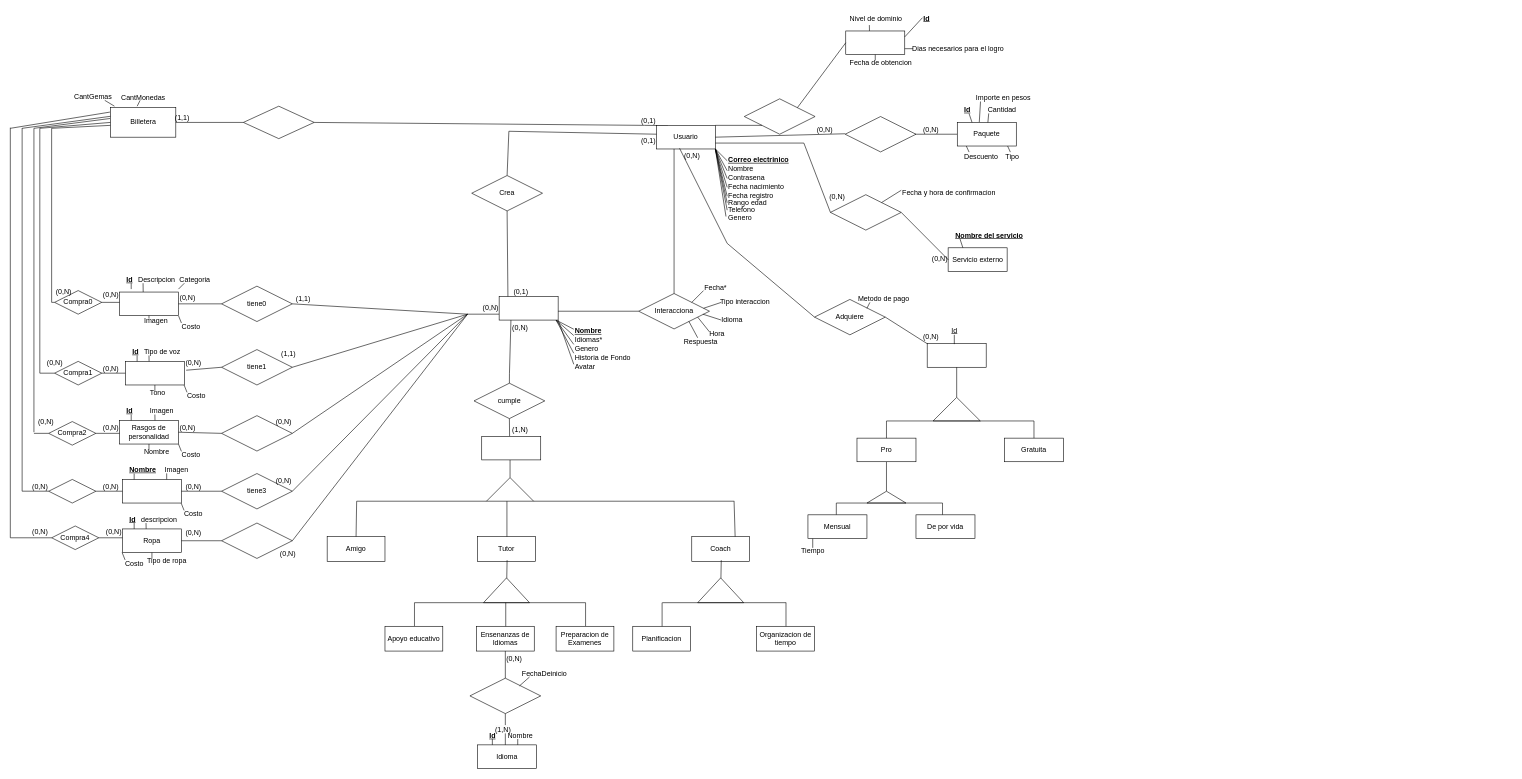
The diagram is 1522 pixels wide and 779 high, and some of its shapes have lost their labels. Here are the shapes that lost their labels. From the top down, the box of each, then its label:
(845, 30, 905, 55): Certificado de logro
(243, 106, 314, 139): posee
(744, 98, 815, 134): Recibe
(845, 116, 916, 152): Compra
(830, 194, 901, 230): Integra
(119, 291, 178, 316): Apariencia
(499, 296, 558, 320): Asistente virtual
(125, 361, 184, 385): Voz
(927, 343, 986, 367): Suscripcion
(221, 415, 292, 451): tiene2
(481, 436, 541, 460): Rol
(48, 479, 96, 503): Compra3
(122, 479, 181, 503): Interes
(221, 522, 292, 558): tiene4
(469, 678, 541, 714): Ensena
